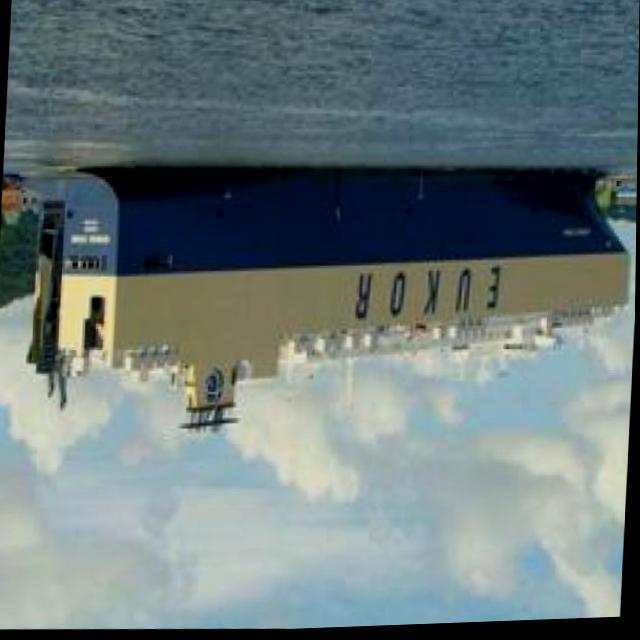ship2: (28, 164, 631, 443)
